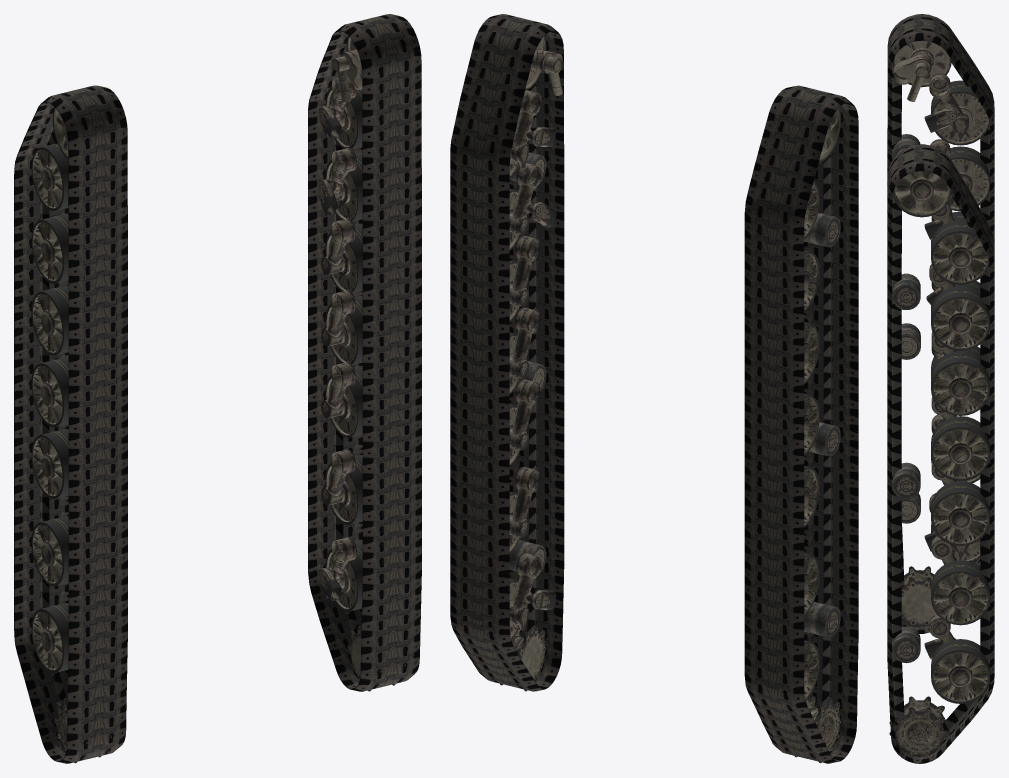
Rendered from Chassis.glb.
3 views of the same model, side by side, from view 1: azimuth 30°, elevation 25°; view 2: azimuth 150°, elevation 25°; view 3: azimuth 270°, elevation 25° (orthographic). The views are drawn at different scales.
Visible parts, largest first — view 1: set_0_group_0, set_1_group_0, set_3_group_0, set_2_group_0; view 2: set_0_group_0, set_1_group_0, set_3_group_0, set_2_group_0; view 3: set_3_group_0, set_1_group_0, set_2_group_0, set_0_group_0.
Boxes of the visible parts, x1=… form: set_0_group_0: x1=14, y1=85, x2=127, y2=763; set_1_group_0: x1=308, y1=14, x2=421, y2=691; set_3_group_0: x1=318, y1=36, x2=405, y2=691; set_2_group_0: x1=31, y1=107, x2=111, y2=763; set_0_group_0: x1=744, y1=85, x2=858, y2=763; set_1_group_0: x1=450, y1=14, x2=564, y2=691; set_3_group_0: x1=492, y1=36, x2=562, y2=691; set_2_group_0: x1=786, y1=107, x2=841, y2=763; set_3_group_0: x1=889, y1=171, x2=989, y2=755; set_1_group_0: x1=887, y1=144, x2=994, y2=763; set_2_group_0: x1=892, y1=40, x2=989, y2=626; set_0_group_0: x1=887, y1=14, x2=994, y2=633.
Bounding box in the file's own units: 3.48 × 6.24 × 1.01.
4 materials, 4 textured.
